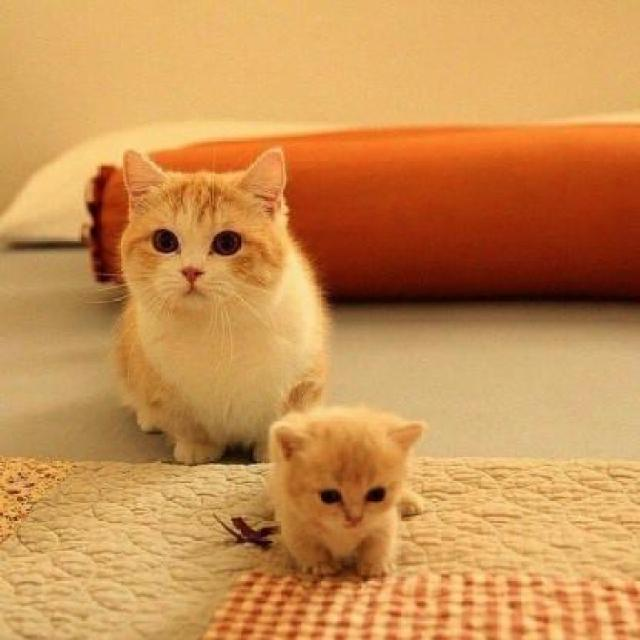cat: (101, 141, 356, 444), (237, 400, 428, 586)
